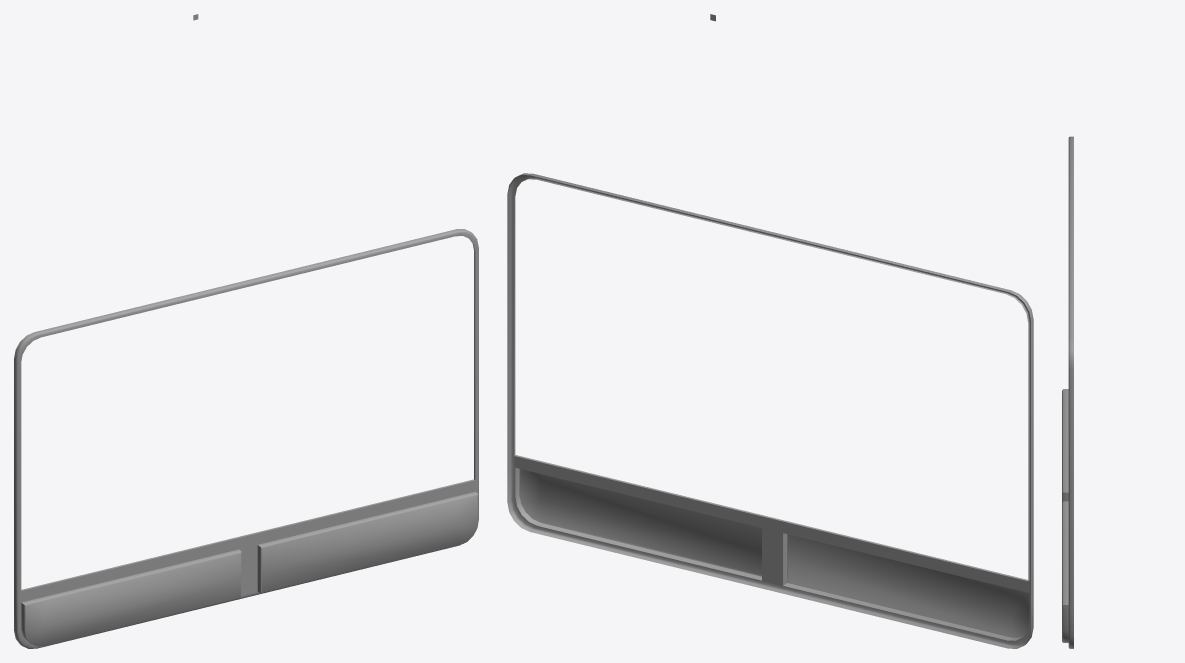
The model's file is MainMeshLaptop_18_1_GeomSubset_1.obj.
3 views of the same model, side by side, from view 1: azimuth 30°, elevation 25°; view 2: azimuth 150°, elevation 25°; view 3: azimuth 270°, elevation 25° (orthographic). The views are drawn at different scales.
Visible parts, largest first — view 1: MainMeshLaptop_18_1_GeomSubset_1; view 2: MainMeshLaptop_18_1_GeomSubset_1; view 3: MainMeshLaptop_18_1_GeomSubset_1.
Part boxes in pixels (bbox=[...]): MainMeshLaptop_18_1_GeomSubset_1: bbox=[14, 14, 478, 648]; MainMeshLaptop_18_1_GeomSubset_1: bbox=[507, 14, 1033, 648]; MainMeshLaptop_18_1_GeomSubset_1: bbox=[1062, 136, 1073, 648].
Size of the model in its own units: 0.1142 by 0.1285 by 0.0239.
